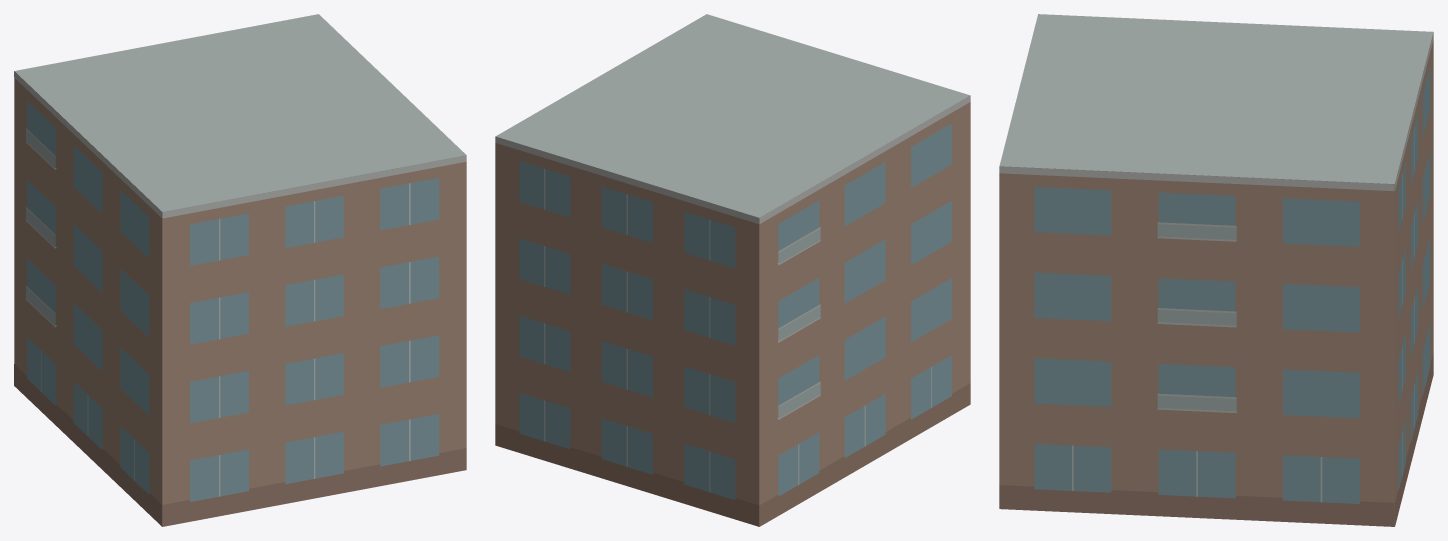
Rendered from survey-upis-32798500.glb.
3 views of the same model, side by side, from view 1: azimuth 30°, elevation 25°; view 2: azimuth 150°, elevation 25°; view 3: azimuth 270°, elevation 25° (orthographic). The views are drawn at different scales.
Visible parts, largest first — view 1: survey-upis-32798500.tmp; view 2: survey-upis-32798500.tmp; view 3: survey-upis-32798500.tmp.
Boxes of the visible parts, x1,y1,x2,y2 form: survey-upis-32798500.tmp: [14, 14, 466, 526]; survey-upis-32798500.tmp: [495, 14, 970, 526]; survey-upis-32798500.tmp: [999, 14, 1433, 526].
Size of the model in its own units: 12.57 by 11.8 by 13.56.
